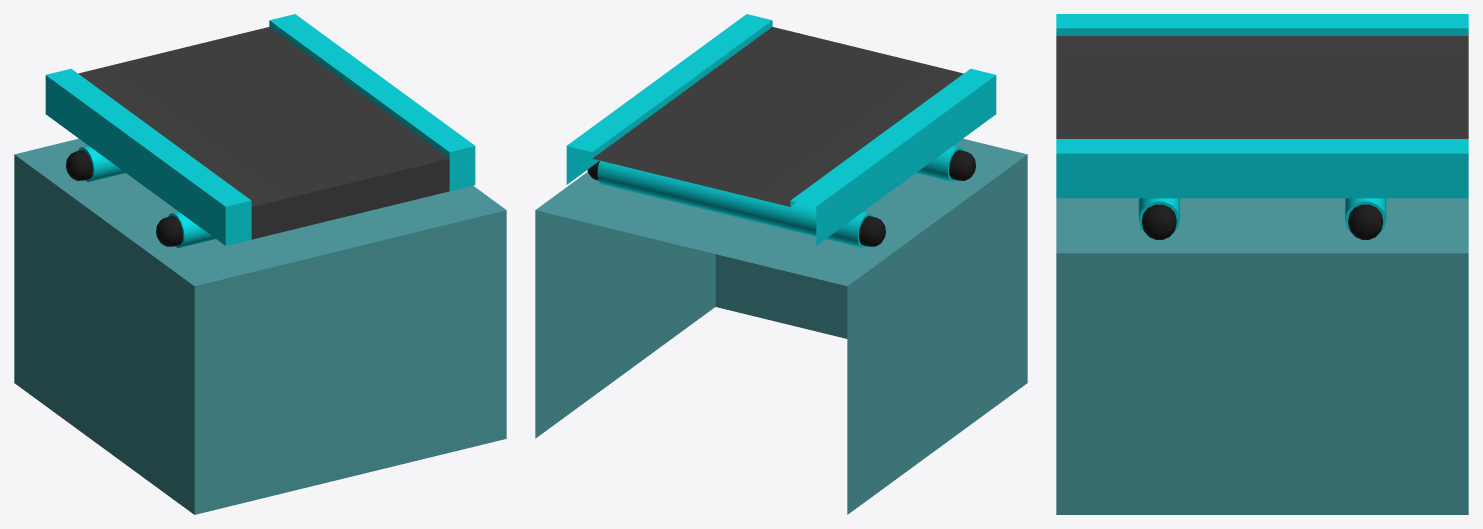
The model's file is conveyor_4.fbx.
3 views of the same model, side by side, from view 1: azimuth 30°, elevation 25°; view 2: azimuth 150°, elevation 25°; view 3: azimuth 270°, elevation 25° (orthographic). The views are drawn at different scales.
Parts seen in each view (by area): view 1: conveyor_4; view 2: conveyor_4; view 3: conveyor_4.
Part boxes in pixels (bbox=[...]): conveyor_4: bbox=[14, 14, 506, 514]; conveyor_4: bbox=[535, 14, 1027, 514]; conveyor_4: bbox=[1056, 14, 1468, 514].
Size of the model in its own units: 1 by 0.92 by 1.
